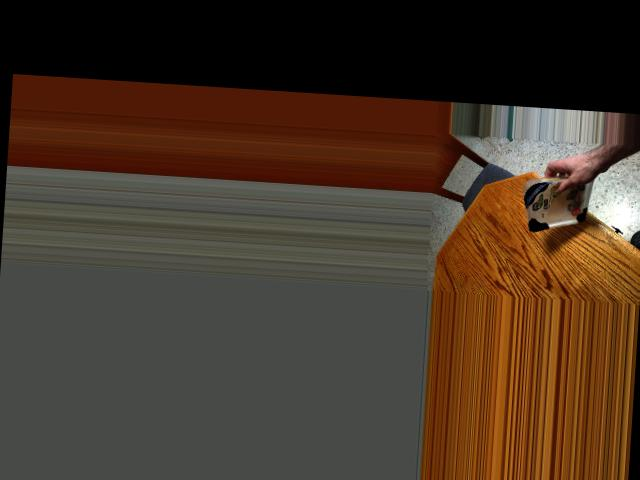cheese: (517, 174, 601, 231)
